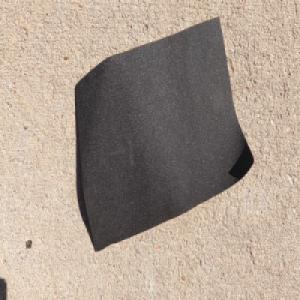PaintChip: (73, 20, 251, 255)
